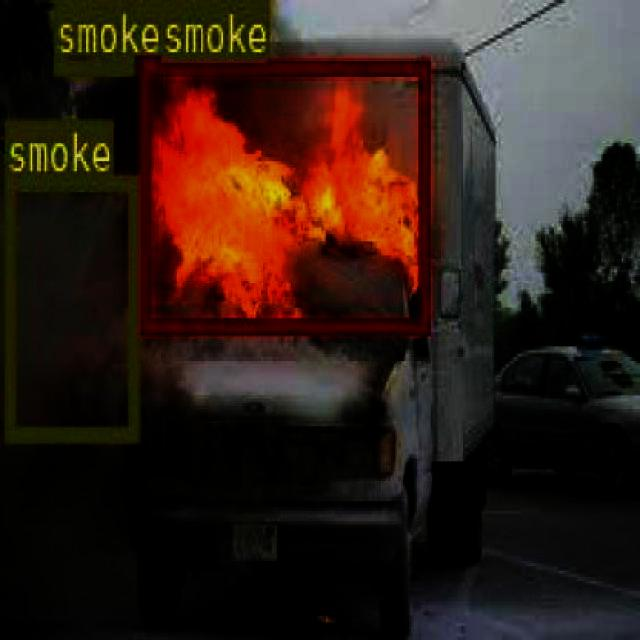fire: (138, 56, 428, 332)
smoke: (3, 174, 137, 438), (158, 0, 263, 55), (50, 0, 130, 69)
